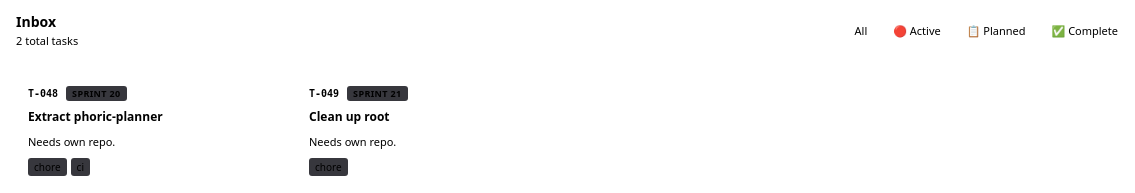
InboxView › can toggle between Active and All
The width and height of the screenshot is (1135, 193).
Check: the text "Extract phoric-planner" is shown, box [28,108,163,125]
Check: the text "Clean up root" is shown, box [309,108,390,125]
Click the button "🔴 Active" at (917, 30), box [883,20,951,40]
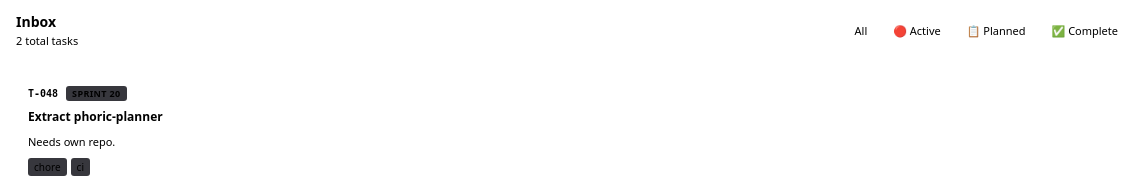
Check: the text "Extract phoric-planner" is shown, box [28,108,163,125]
Check: the text "Clean up root" is gone
